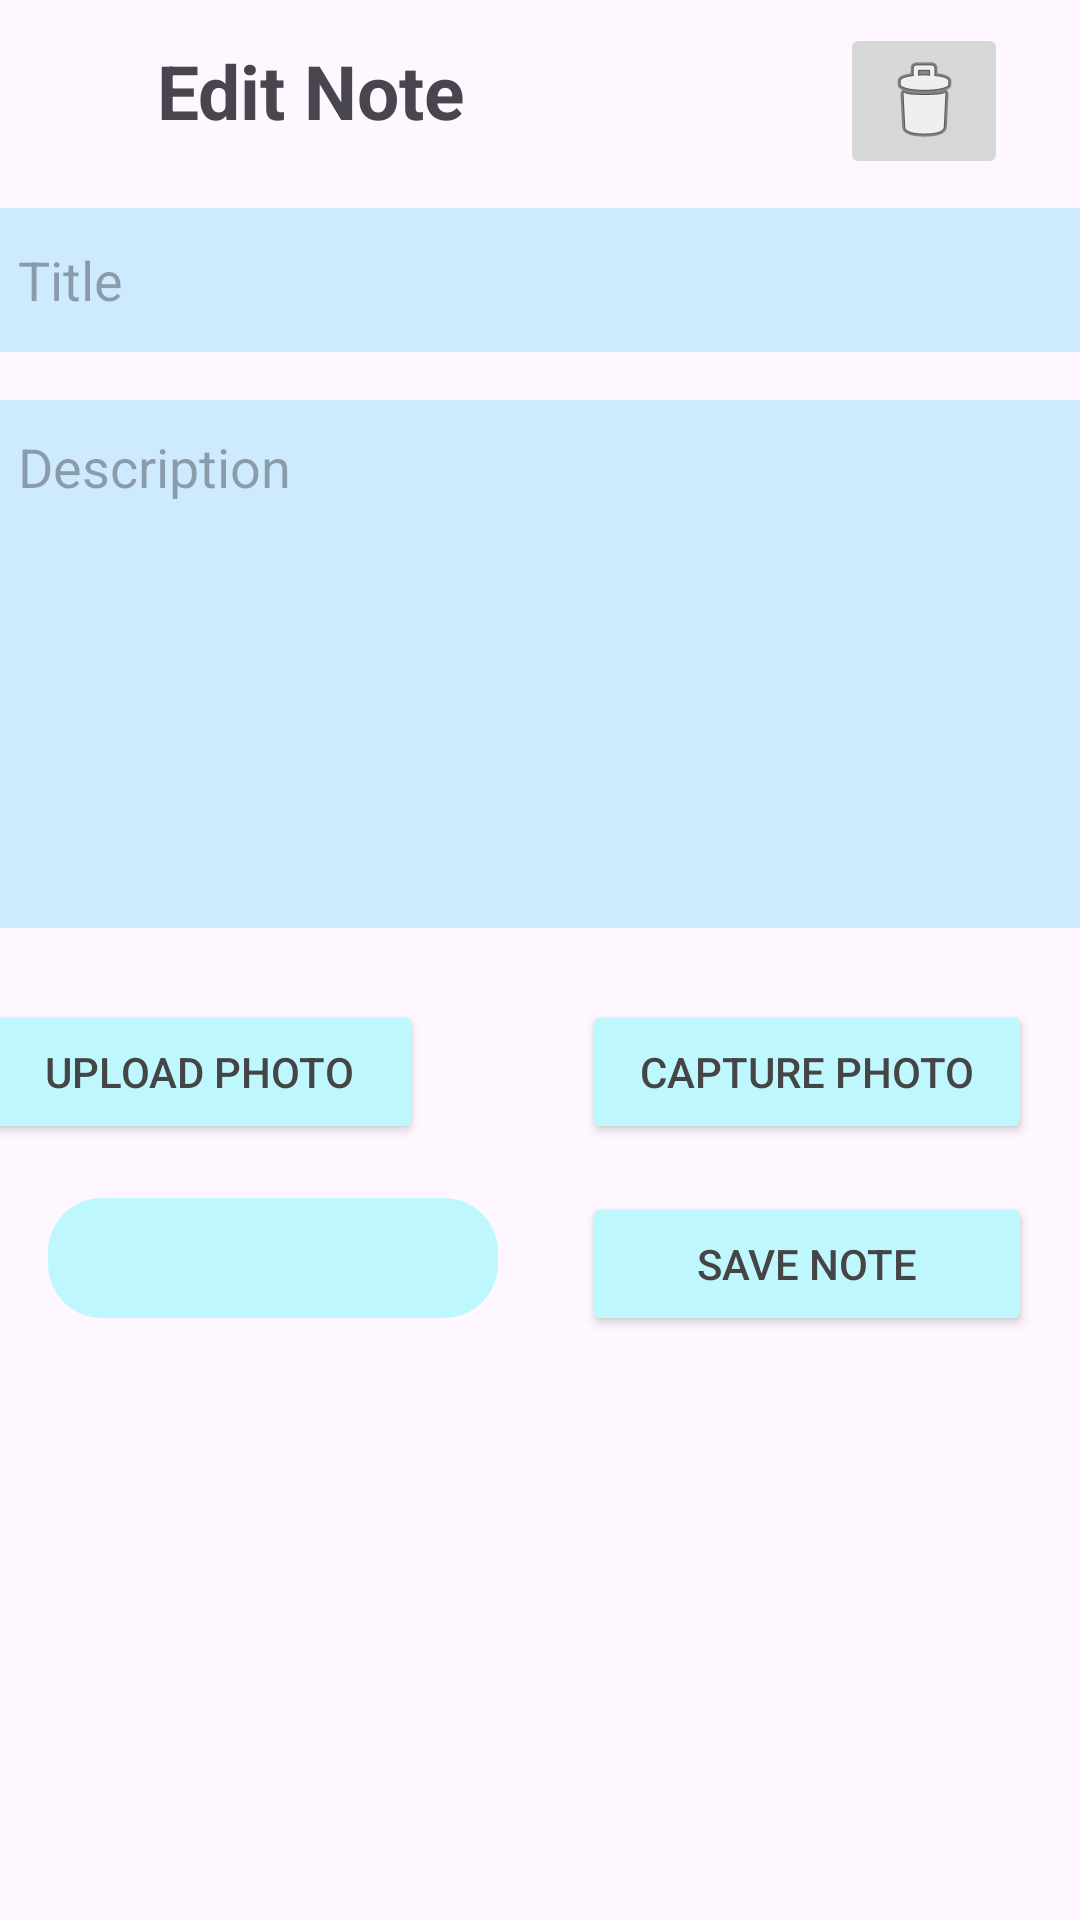

Screen size 1080x1920. Icon name, then its box in pixels as detection(x1, y1, x2, y2):
delete: detection(852, 41, 996, 161)
